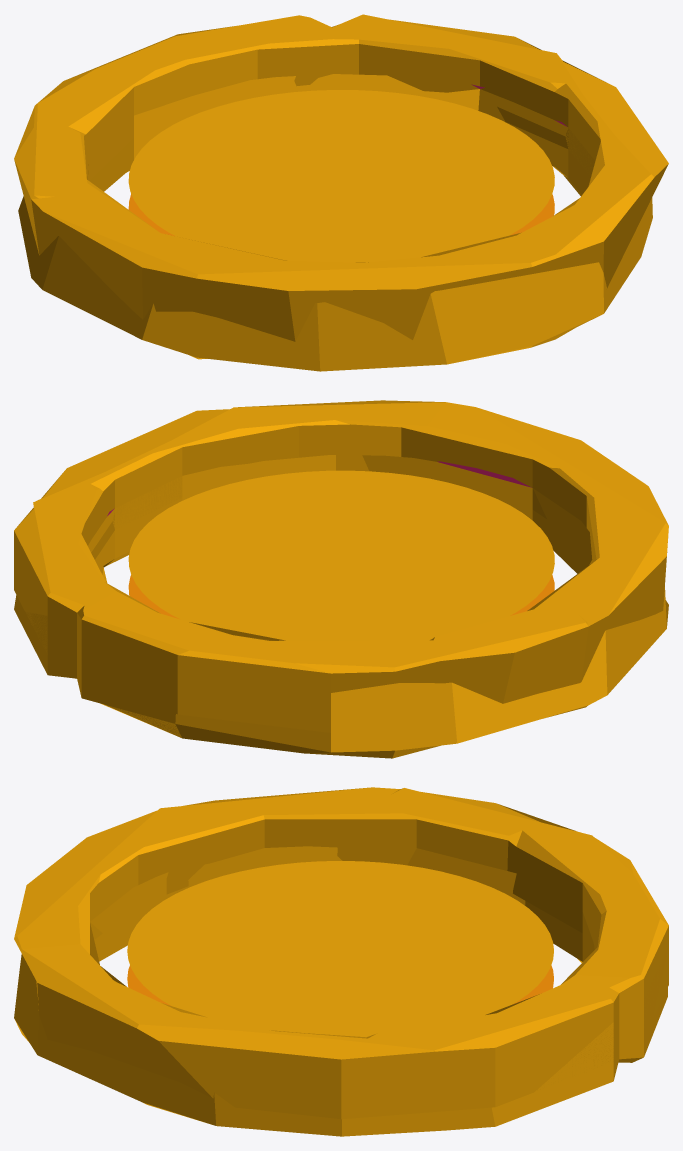
Rendered from geniecoin-blank-outer.glb.
The picture shows the model from 3 angles, top to bottom: view 1: azimuth 30°, elevation 25°; view 2: azimuth 150°, elevation 25°; view 3: azimuth 270°, elevation 25°; orthographic projection.
Visible parts, largest first — view 1: coin-blank; view 2: coin-blank; view 3: coin-blank.
Boxes of the visible parts, x1=… form: coin-blank: x1=14, y1=14, x2=668, y2=371; coin-blank: x1=14, y1=400, x2=668, y2=758; coin-blank: x1=14, y1=787, x2=668, y2=1136.
Bounding box in the file's own units: 1.96 × 0.309 × 2.
